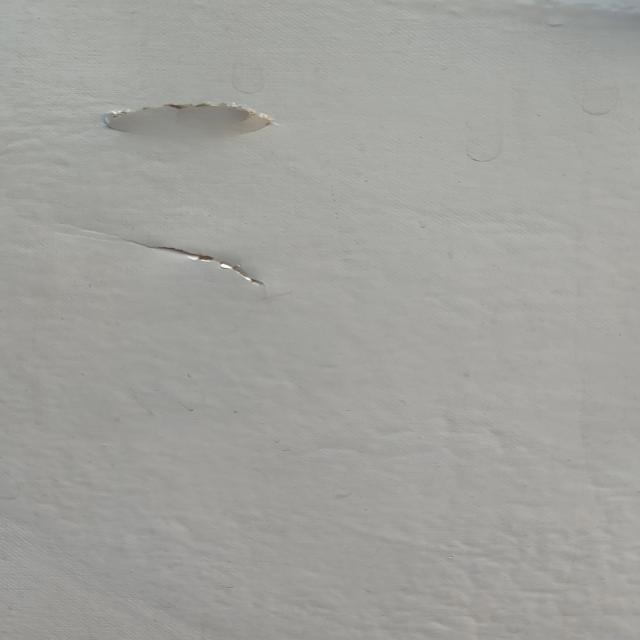Scratches: (138, 241, 310, 291), (106, 101, 279, 140)
